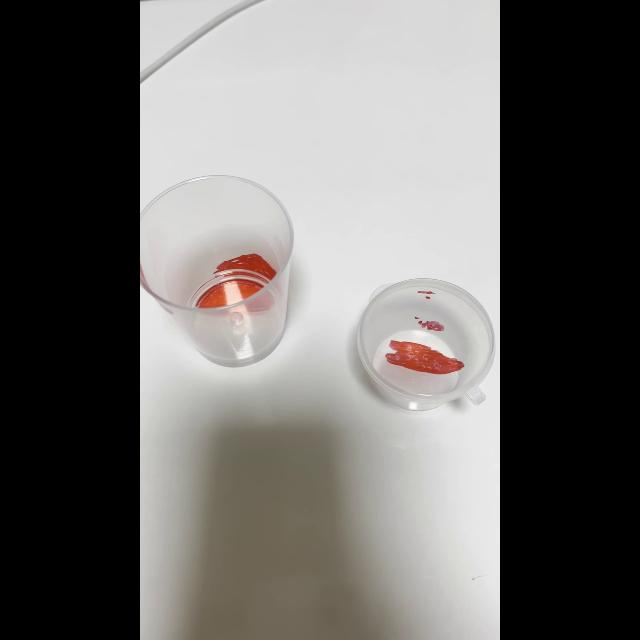dirty: (141, 178, 295, 364), (356, 280, 496, 410)
